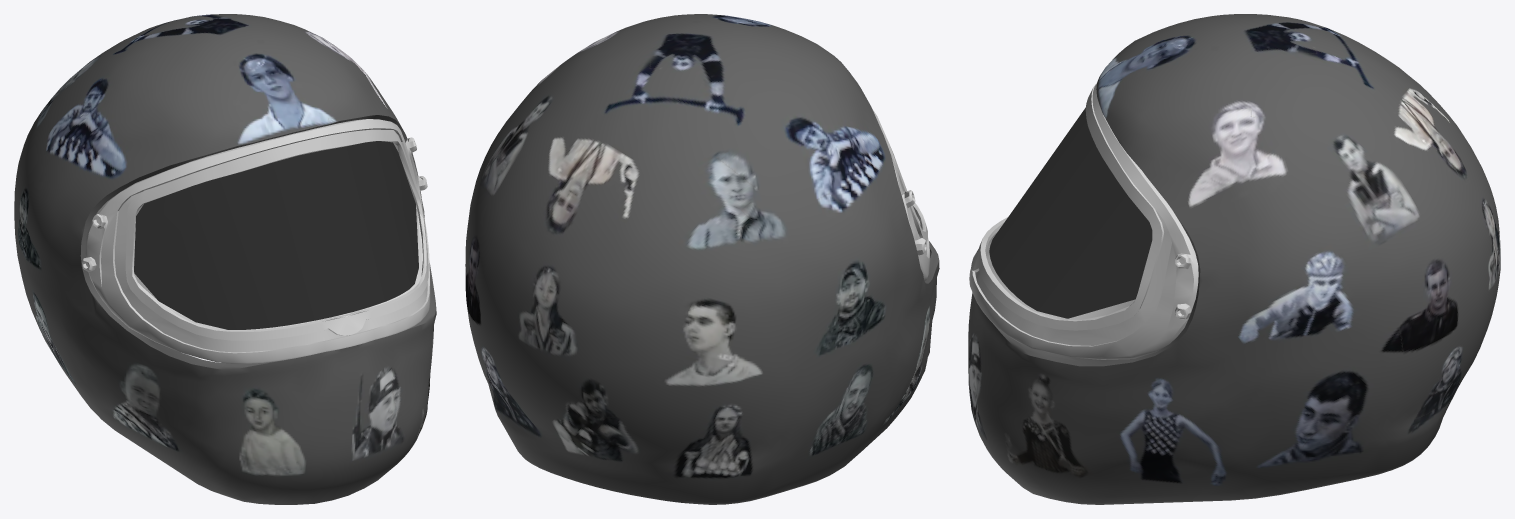
Rendered from casco_0307.gltf.
3 renders of one model, left to right at view 1: azimuth 30°, elevation 25°; view 2: azimuth 150°, elevation 25°; view 3: azimuth 270°, elevation 25°, orthographic. The views are drawn at different scales.
Visible parts, largest first — view 1: mesh_rep_0_ori_repair_quadobj, mesh_rep_0_ori_repair_quadobj002, mesh_rep_0_ori_repair_quadobj001; view 2: mesh_rep_0_ori_repair_quadobj, mesh_rep_0_ori_repair_quadobj001; view 3: mesh_rep_0_ori_repair_quadobj, mesh_rep_0_ori_repair_quadobj002, mesh_rep_0_ori_repair_quadobj001.
Boxes of the visible parts, x1,y1,x2,y2 form: mesh_rep_0_ori_repair_quadobj: (14,14,436,504); mesh_rep_0_ori_repair_quadobj002: (134,141,418,329); mesh_rep_0_ori_repair_quadobj001: (82,119,430,363); mesh_rep_0_ori_repair_quadobj: (465,14,939,504); mesh_rep_0_ori_repair_quadobj001: (872,109,930,280); mesh_rep_0_ori_repair_quadobj: (968,14,1500,504); mesh_rep_0_ori_repair_quadobj002: (989,107,1152,318); mesh_rep_0_ori_repair_quadobj001: (969,83,1198,359).
Bounding box in the file's own units: 1.56 × 1.65 × 1.84.
Materials: 5 (1 with a texture image).
